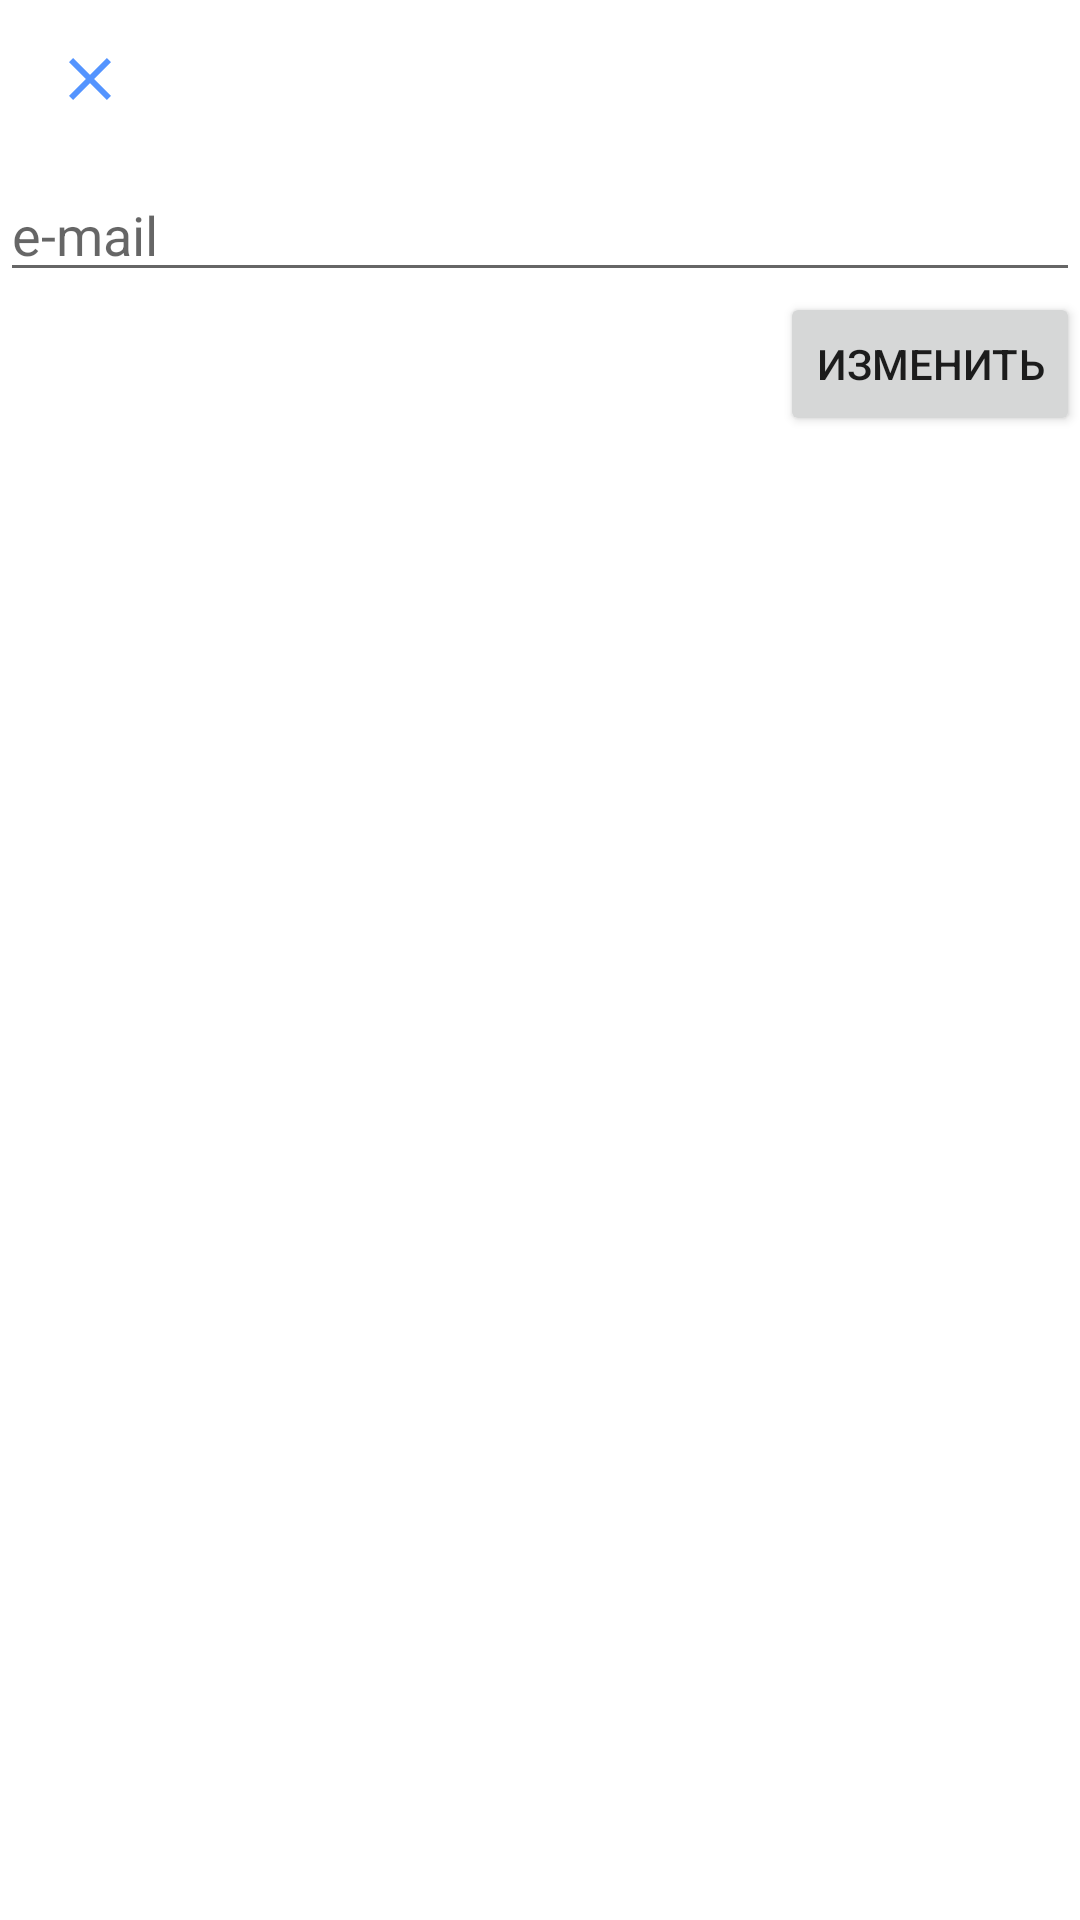

Locate icon controls on the screen. Image size 1080px x 1920px, boxes as Rect(x1, y1, x2, y2).
cross: Rect(69, 58, 111, 100)
